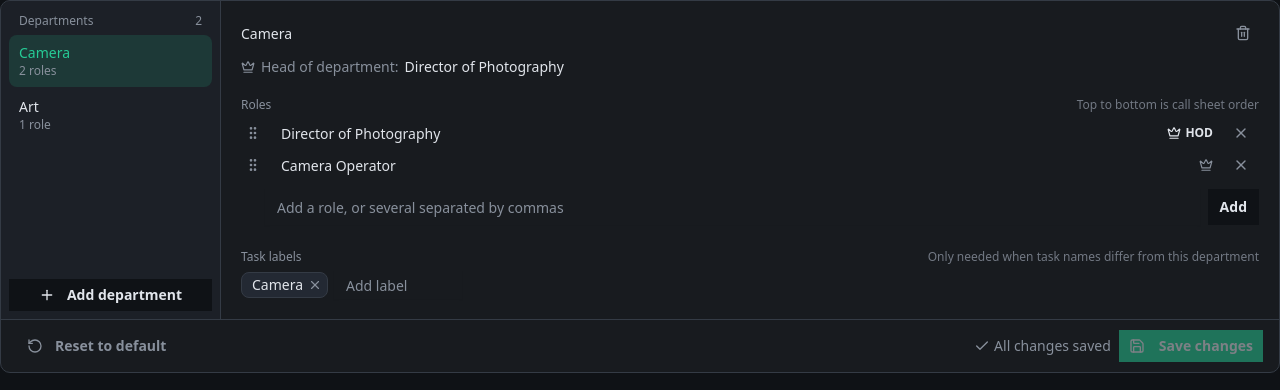
Test: CrewStructureEditor › discards unsaved edits
The width and height of the screenshot is (1280, 390).
Type " Unit" into the field named "Department name" at (726, 33), box [233, 13, 1219, 53]
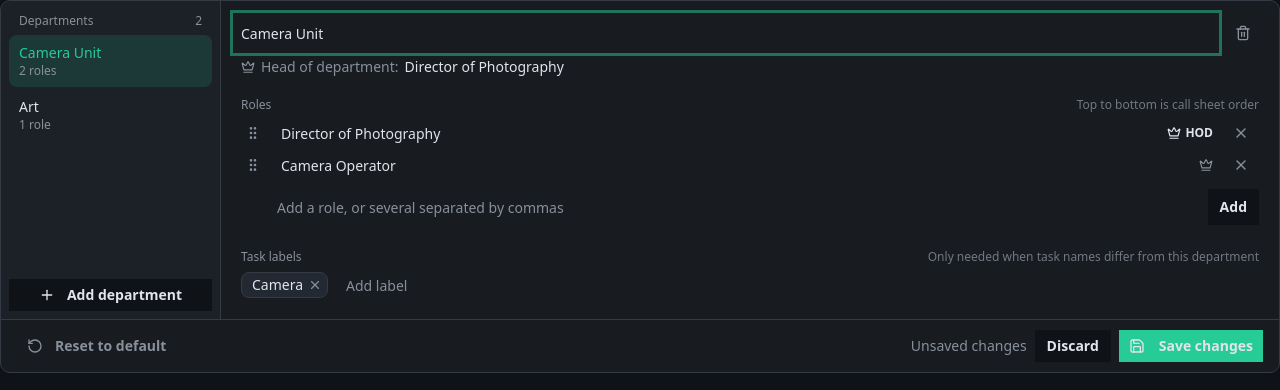
Expected: the text "Unsaved changes" is shown, [911, 336, 1027, 356]
Click the button "Discard" at (1073, 346), box [1035, 330, 1111, 362]
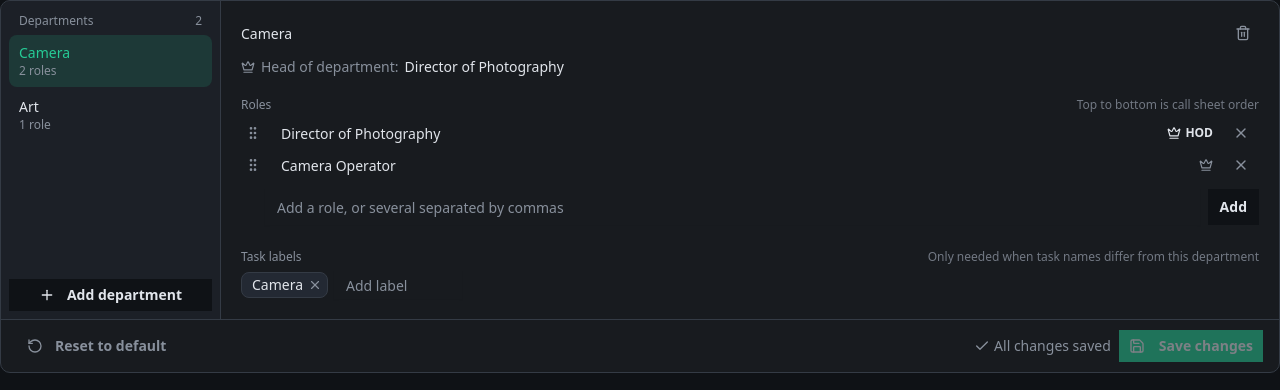
Expected: the field named "Department name" holds "Camera", [233, 13, 1219, 53]
Expected: the text "All changes saved" is shown, [974, 336, 1111, 356]
